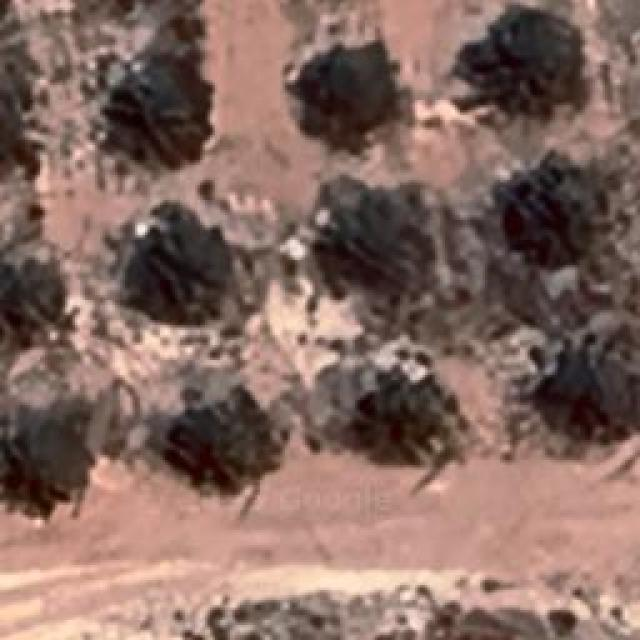PalmTree: (80, 48, 205, 182), (34, 103, 75, 459), (476, 8, 596, 114), (314, 188, 416, 298), (126, 215, 222, 330), (301, 42, 399, 140), (511, 171, 604, 271), (360, 376, 442, 476), (550, 350, 635, 442), (178, 402, 262, 488), (0, 266, 60, 344), (0, 81, 18, 178)
